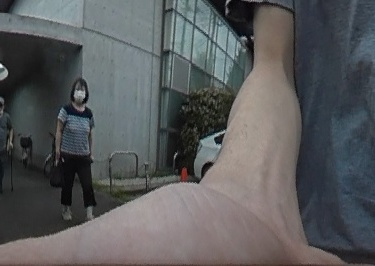person: (56, 77, 99, 215)
